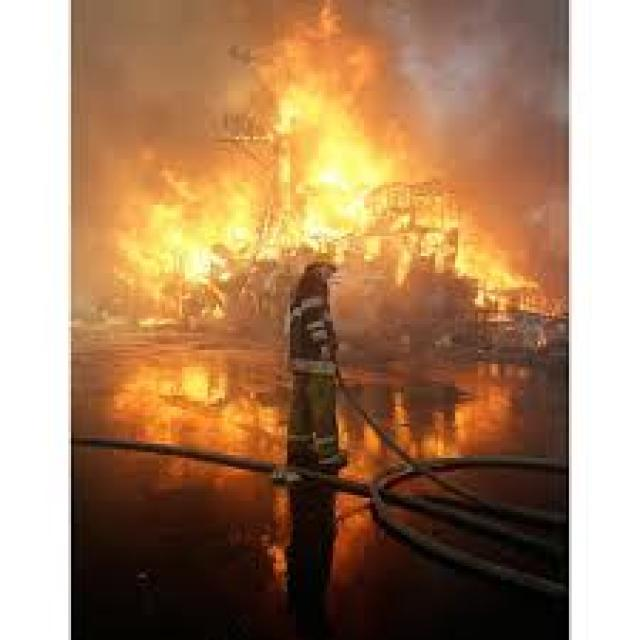Fire: (141, 159, 481, 317)
Smoke: (82, 7, 586, 155)
